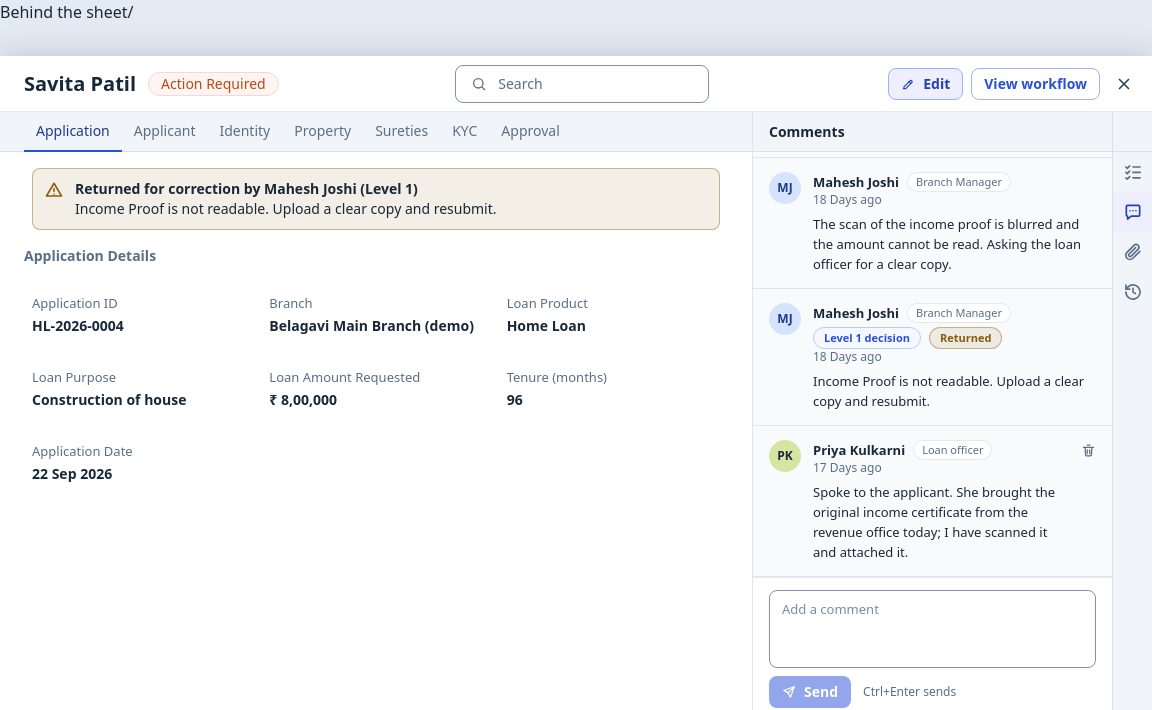
Test: edit mode › replaces Edit with Cancel and Save changes, and keeps View workflow and Close
The image size is (1152, 710).
(page scrolled)
Click the button "Edit": (926, 84) [888,68,963,100]
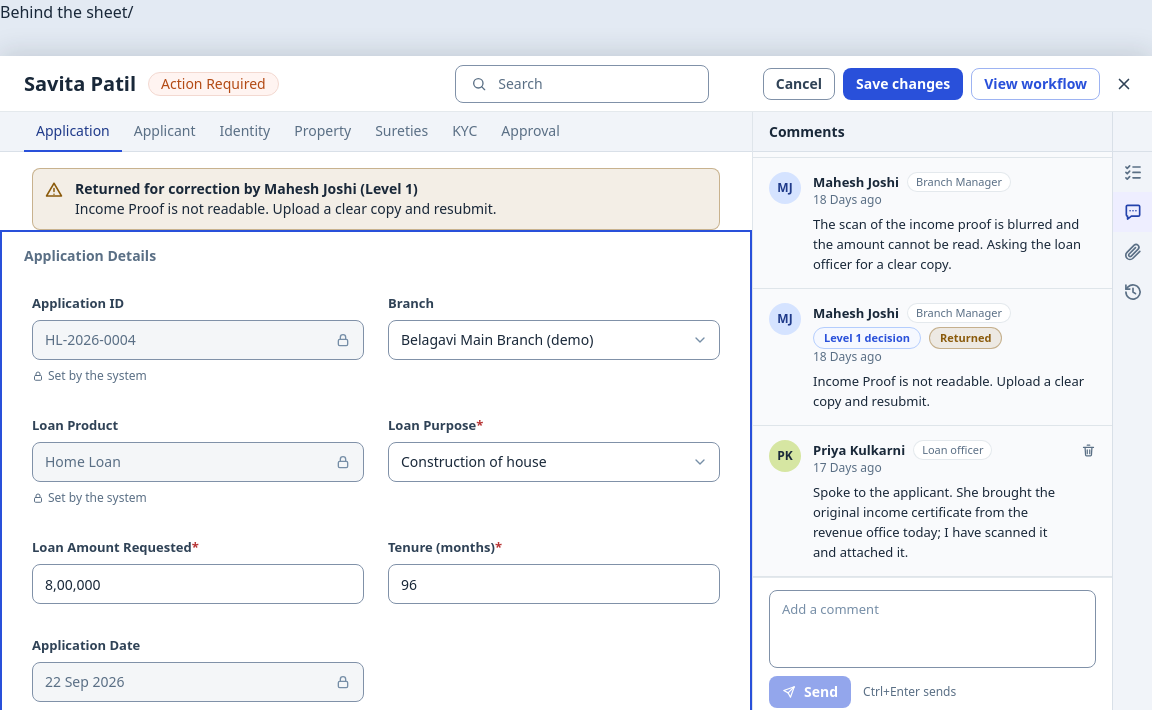
Now the button "Edit" is gone
Now the button "Cancel" is shown, box [763,68,835,100]
Now the button "Save changes" is shown, box [843,68,963,100]
